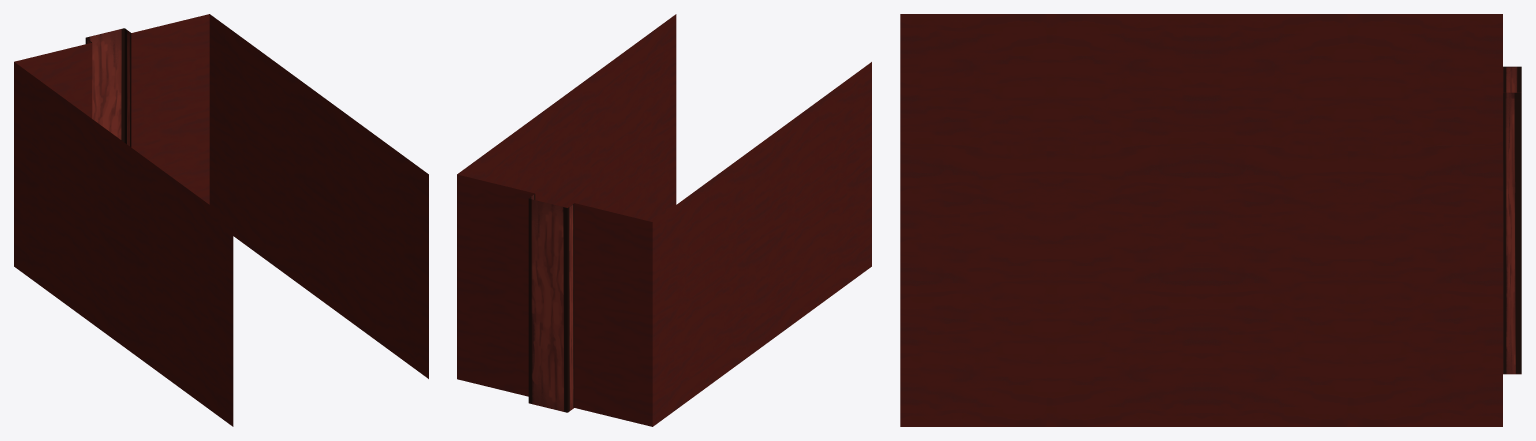
File: lvl1_groundMiddle.fbx
3 renders of one model, left to right at view 1: azimuth 30°, elevation 25°; view 2: azimuth 150°, elevation 25°; view 3: azimuth 270°, elevation 25°, orthographic. The views are drawn at different scales.
Visible parts, largest first — view 1: groundMiddle_lvl1; view 2: groundMiddle_lvl1; view 3: groundMiddle_lvl1.
Part boxes in pixels (bbox=[...]): groundMiddle_lvl1: bbox=[14, 14, 428, 426]; groundMiddle_lvl1: bbox=[457, 14, 871, 426]; groundMiddle_lvl1: bbox=[900, 14, 1521, 426].
Size of the model in its own units: 100 by 100 by 200.
